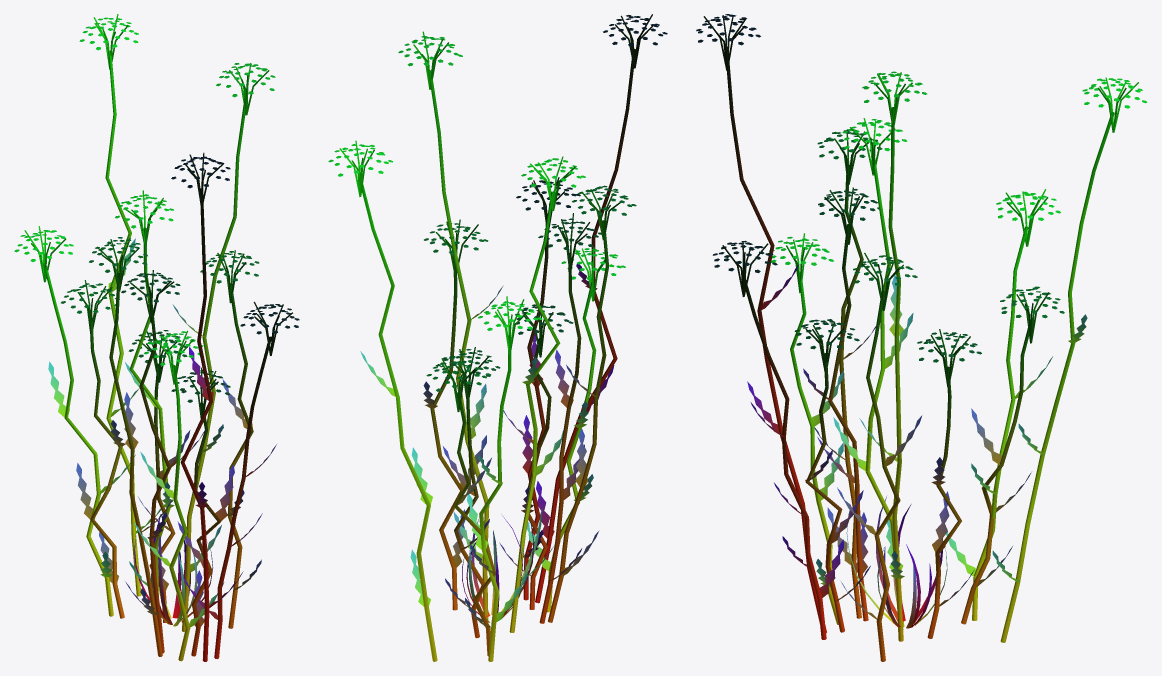
The model's file is SM_Flower_Yarrow_C.fbx.
The picture shows the model from 3 angles, left to right: view 1: azimuth 30°, elevation 25°; view 2: azimuth 150°, elevation 25°; view 3: azimuth 270°, elevation 25°; orthographic projection. The views are drawn at different scales.
Parts seen in each view (by area): view 1: SM_Flower_Yarrow_C; view 2: SM_Flower_Yarrow_C; view 3: SM_Flower_Yarrow_C.
Part boxes in pixels (x1,y1,x2,y2): SM_Flower_Yarrow_C: (14,14,299,661); SM_Flower_Yarrow_C: (328,14,667,661); SM_Flower_Yarrow_C: (696,14,1147,661).
Bounding box in the file's own units: 0.2275 × 0.6082 × 0.4161.
